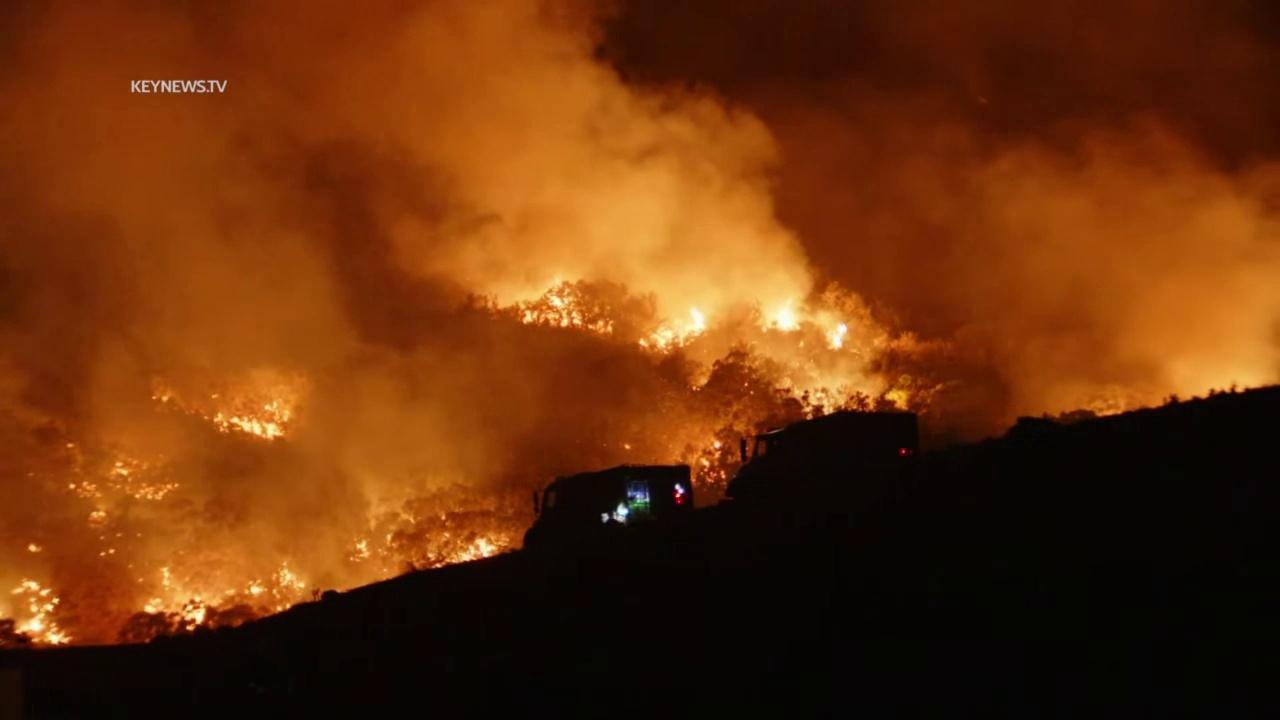fire: (138, 565, 208, 632), (10, 578, 75, 647), (517, 294, 616, 336), (635, 303, 710, 356), (211, 399, 292, 443), (104, 458, 181, 502), (423, 528, 500, 571), (244, 560, 306, 613), (771, 301, 801, 334), (823, 321, 850, 352), (348, 535, 373, 567), (700, 458, 717, 483), (89, 510, 110, 530), (713, 439, 724, 459), (98, 548, 117, 558), (720, 469, 726, 481)
smoke: (0, 0, 1280, 661)
